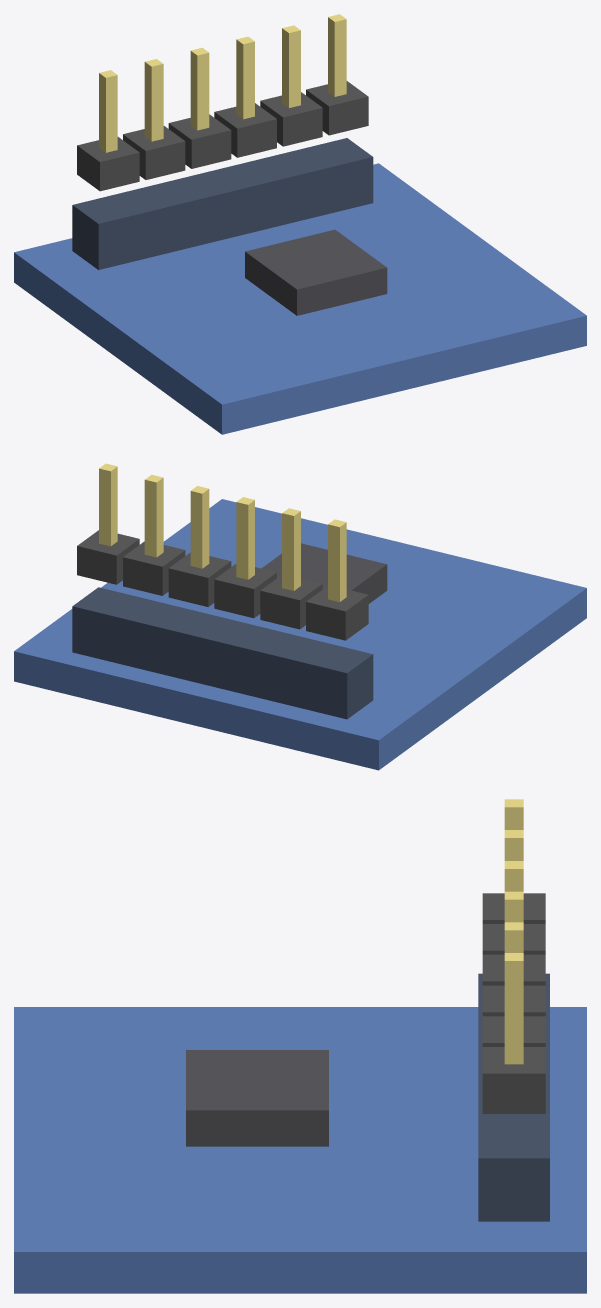
The picture shows the model from 3 angles, top to bottom: view 1: azimuth 30°, elevation 25°; view 2: azimuth 150°, elevation 25°; view 3: azimuth 270°, elevation 25°; orthographic projection. The views are drawn at different scales.
Parts seen in each view (by area): view 1: rtc-ds3231-module_mesh; view 2: rtc-ds3231-module_mesh; view 3: rtc-ds3231-module_mesh.
Boxes of the visible parts, box(x1,y1,x2,y2) form: rtc-ds3231-module_mesh: box(14, 14, 586, 434); rtc-ds3231-module_mesh: box(14, 463, 586, 770); rtc-ds3231-module_mesh: box(14, 799, 586, 1293).
Size of the model in its own units: 20.24 by 11.2 by 20.
